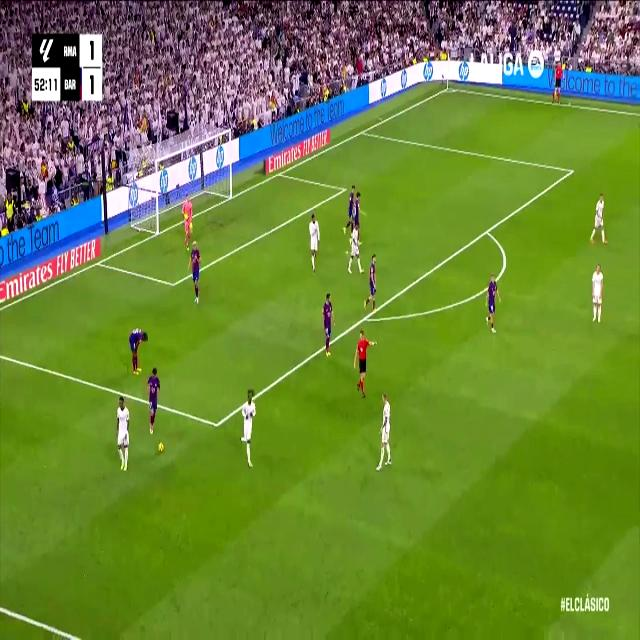bigarea_bottom_inner: (211, 411, 223, 438)
bigarea_top_inner: (568, 162, 576, 179)
bigarea_top_outter: (358, 124, 366, 138)
bottom_arc_area_intersection: (361, 310, 369, 326)
corner: (442, 83, 452, 93)
smallarea_bottom_inner: (169, 274, 177, 294)
smallarea_top_inner: (341, 180, 348, 197)
top_arc_area_intersection: (482, 221, 492, 239)
